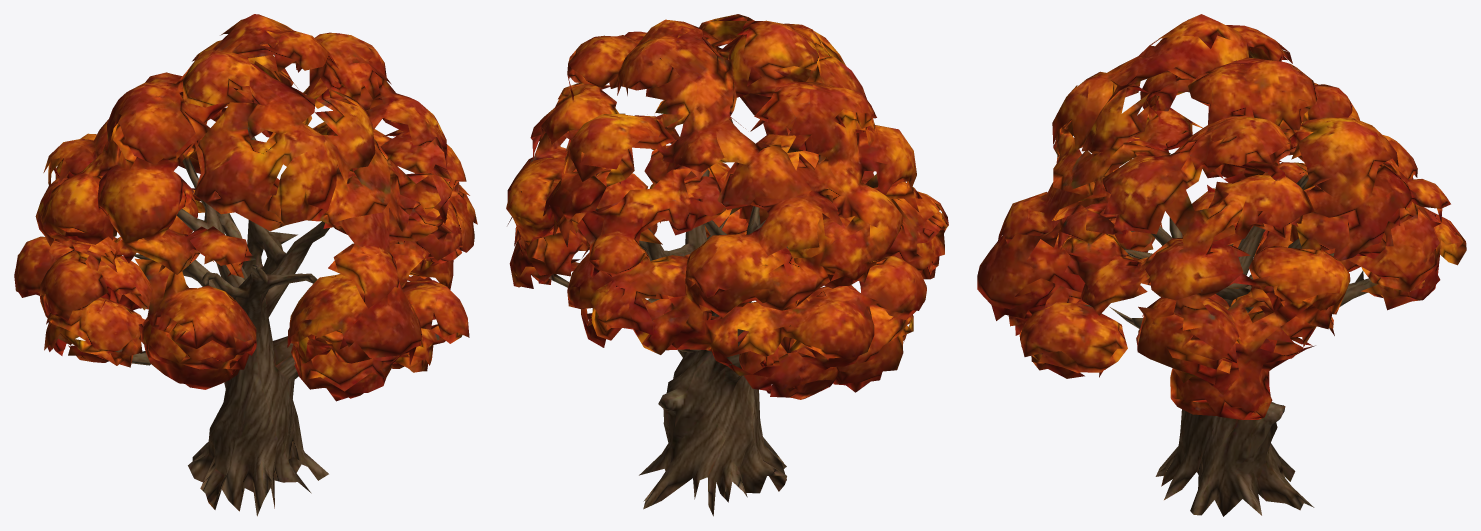
The model's file is tree_autumn.glb.
The picture shows the model from 3 angles, left to right: view 1: azimuth 30°, elevation 25°; view 2: azimuth 150°, elevation 25°; view 3: azimuth 270°, elevation 25°; orthographic projection. The views are drawn at different scales.
Parts seen in each view (by area): view 1: geometry_0; view 2: geometry_0; view 3: geometry_0.
Part boxes in pixels (bbox=[...]): geometry_0: bbox=[14, 14, 477, 516]; geometry_0: bbox=[506, 14, 948, 516]; geometry_0: bbox=[977, 14, 1466, 516].
Bounding box in the file's own units: 0.9254 × 0.9863 × 0.9536.
Materials: 1 (1 with a texture image).
